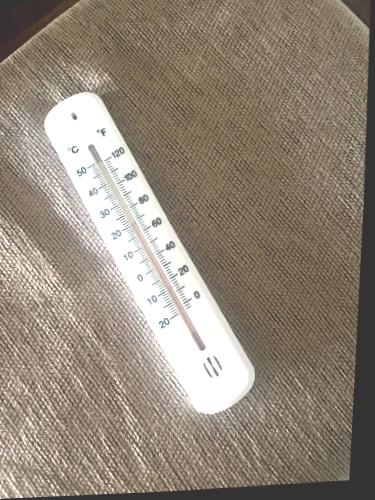thermo: (40, 86, 261, 417)
